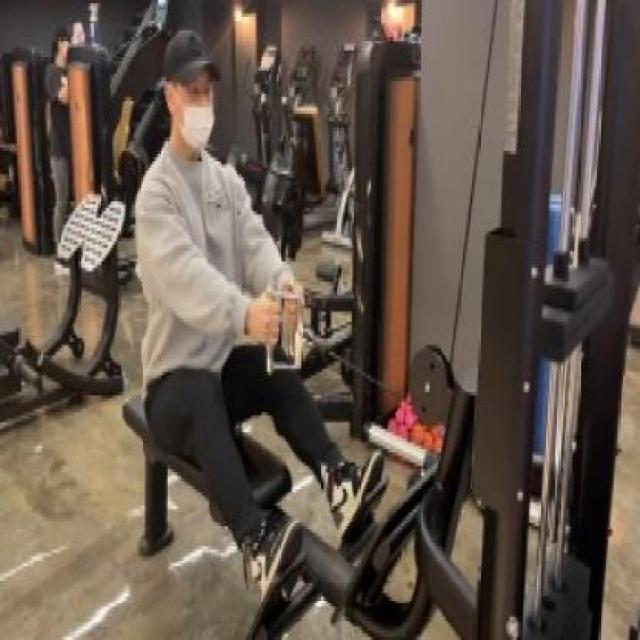Seated Cable Rows: (98, 0, 640, 640)
